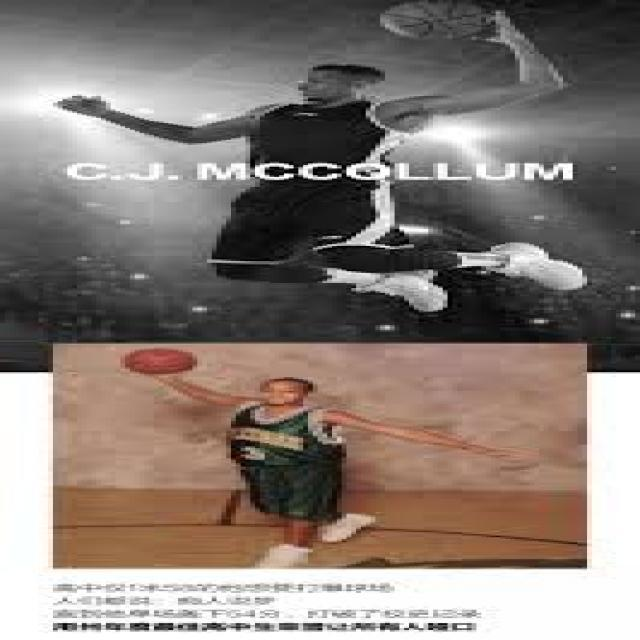rim: (390, 7, 510, 42), (120, 352, 202, 374)
